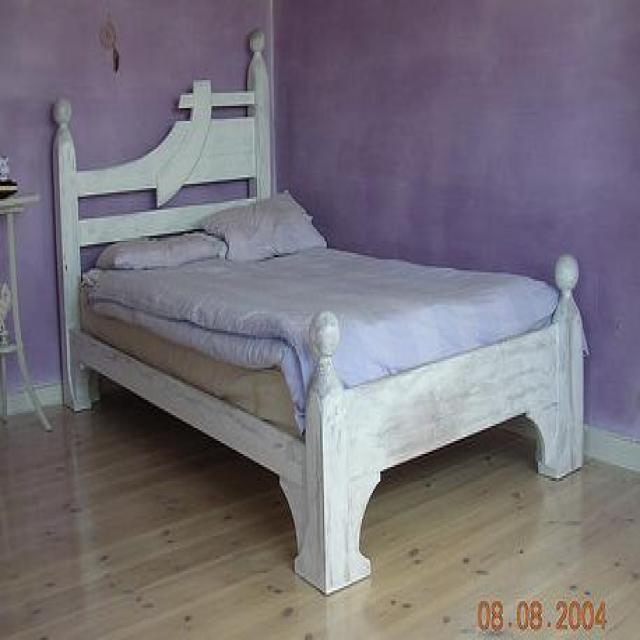bed: (51, 30, 586, 599)
